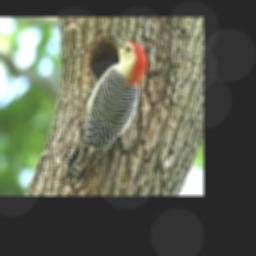Woodpecker: (58, 34, 147, 191)
